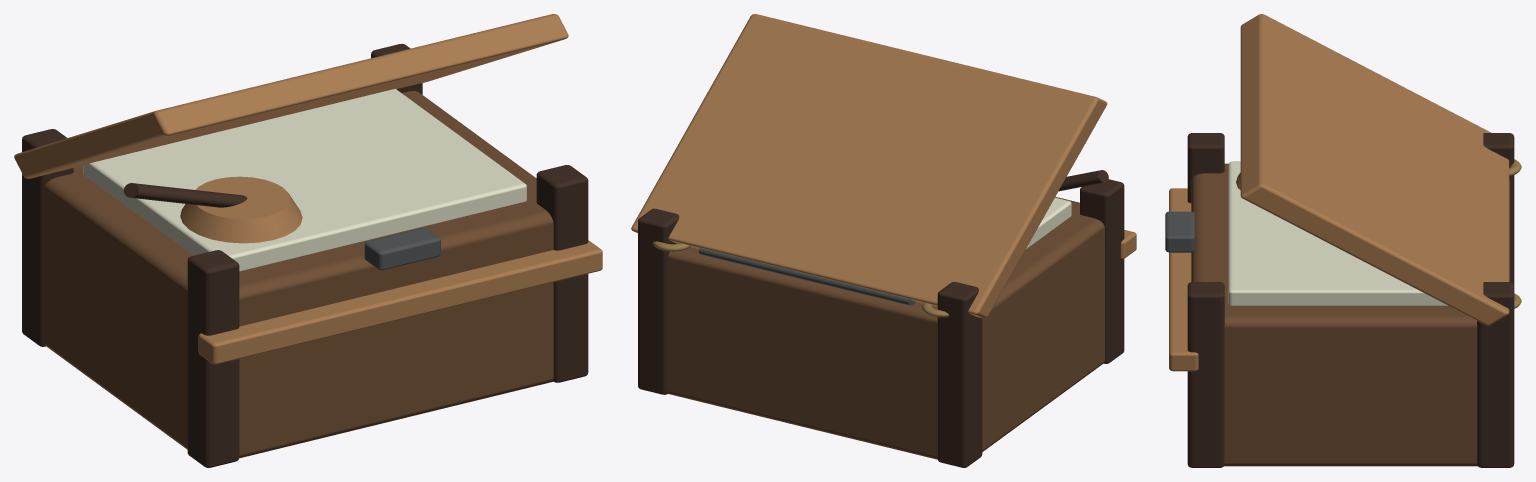
File: detail_flour_bin.glb
The picture shows the model from 3 angles, left to right: view 1: azimuth 30°, elevation 25°; view 2: azimuth 150°, elevation 25°; view 3: azimuth 270°, elevation 25°; orthographic projection. The views are drawn at different scales.
Visible parts, largest first — view 1: wood, metal; view 2: wood, stone; view 3: wood, metal.
Boxes of the visible parts, box(x1,y1,x2,y2) form: wood: box(14, 14, 602, 467); metal: box(364, 228, 440, 270); wood: box(631, 14, 1136, 467); stone: box(699, 248, 915, 305); wood: box(1169, 14, 1521, 467); metal: box(1165, 211, 1194, 252).
Size of the model in its own units: 1.2 by 0.9 by 1.
